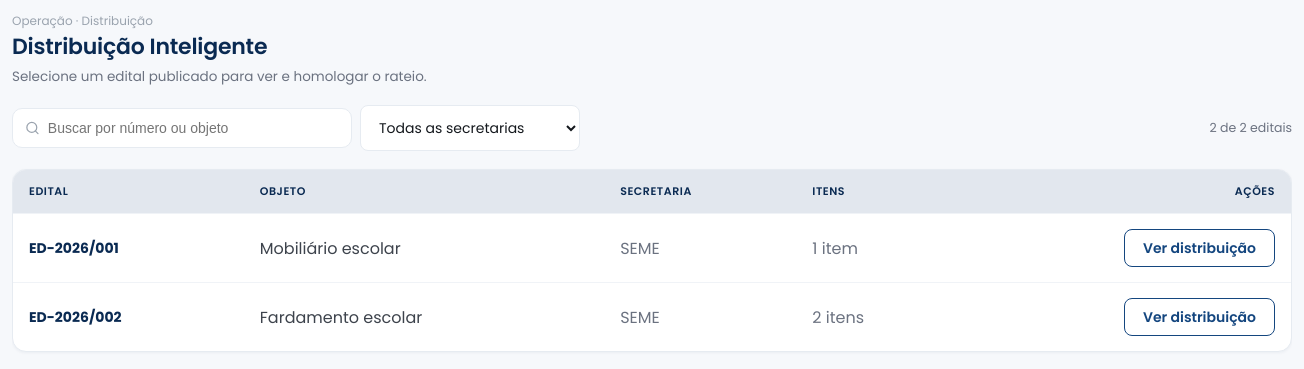
Test: DistribuicaoInteligente — Painel Admin (UC008/RN005) › filtra a lista por número/objeto
This screenshot has width=1304, height=369.
Type "fardamento" into the field with test id "filtro-texto" at (193, 128), box [48,109,339,147]
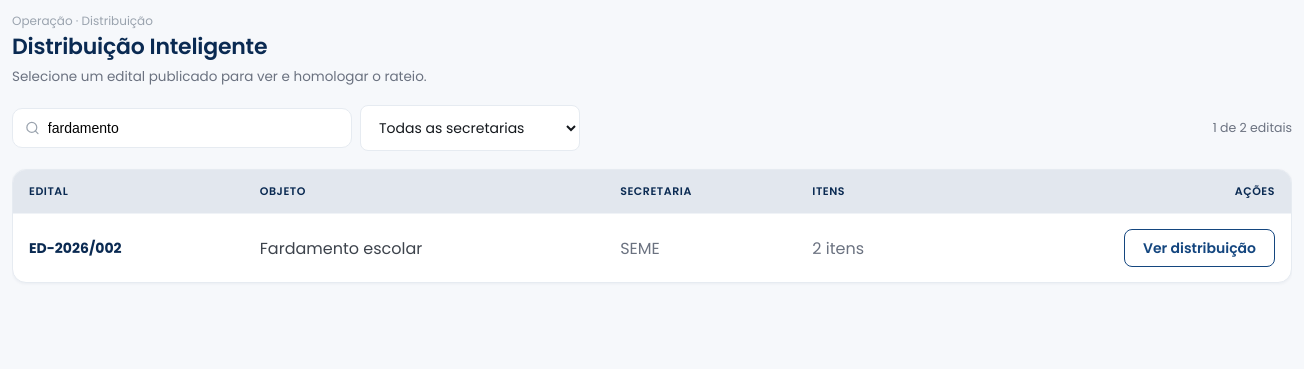
Expected: the row with test id "item-edital" shows "ED-2026/002", [29,238,122,258]
Expected: the number of rows with test id "item-edital" is 1, [13,214,1291,282]
